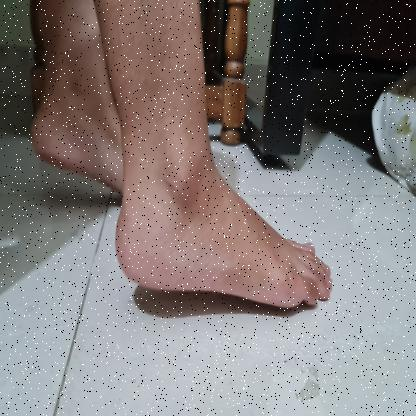leg: (100, 90, 348, 322)
